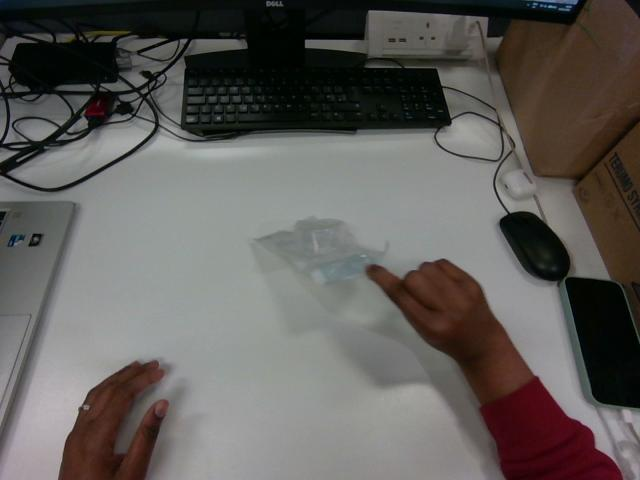gallipot: (256, 217, 384, 284)
